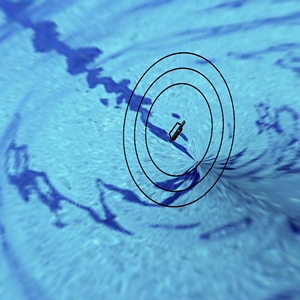circle: (116, 33, 243, 216)
submarine: (163, 112, 189, 154)
